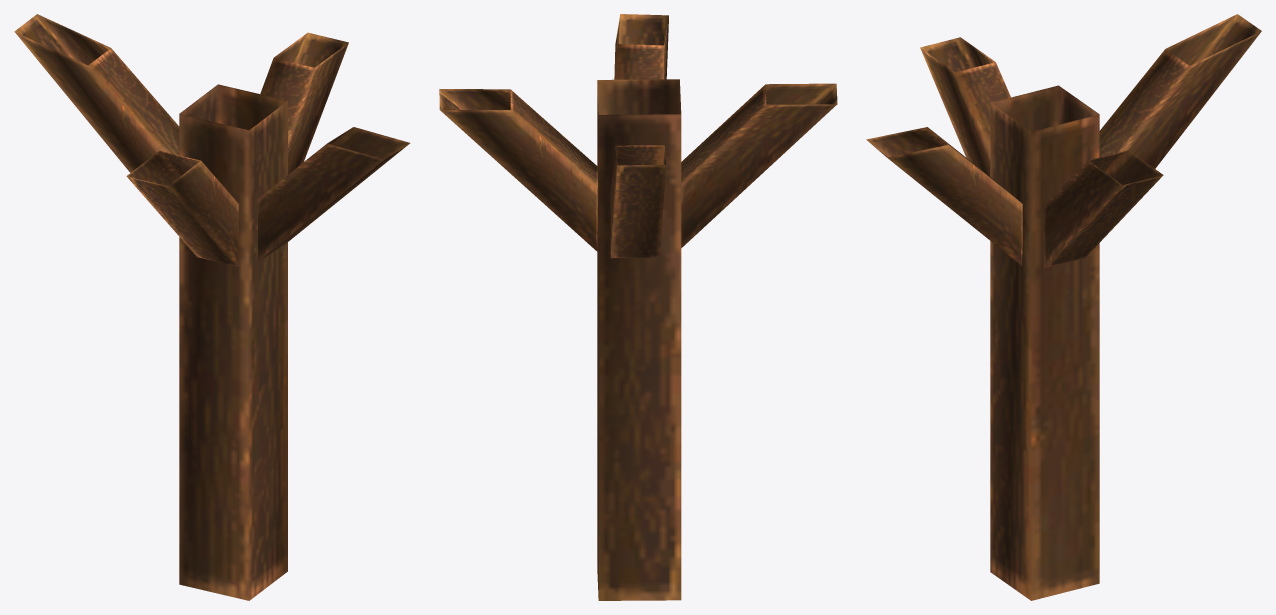
The model's file is SWORDLIGHT20_JAILPLATSUPPORT38.fbx.
3 renders of one model, left to right at view 1: azimuth 30°, elevation 25°; view 2: azimuth 150°, elevation 25°; view 3: azimuth 270°, elevation 25°, orthographic. The views are drawn at different scales.
Visible parts, largest first — view 1: SWORDLIGHT20_JAILPLATSUPPORT38; view 2: SWORDLIGHT20_JAILPLATSUPPORT38; view 3: SWORDLIGHT20_JAILPLATSUPPORT38.
Boxes of the visible parts, box(x1,y1,x2,y2) form: SWORDLIGHT20_JAILPLATSUPPORT38: box(14, 14, 410, 600); SWORDLIGHT20_JAILPLATSUPPORT38: box(439, 14, 837, 600); SWORDLIGHT20_JAILPLATSUPPORT38: box(866, 14, 1261, 600).
Size of the model in its own units: 17531 by 27863 by 19835.
Materials: 1 (1 with a texture image).
